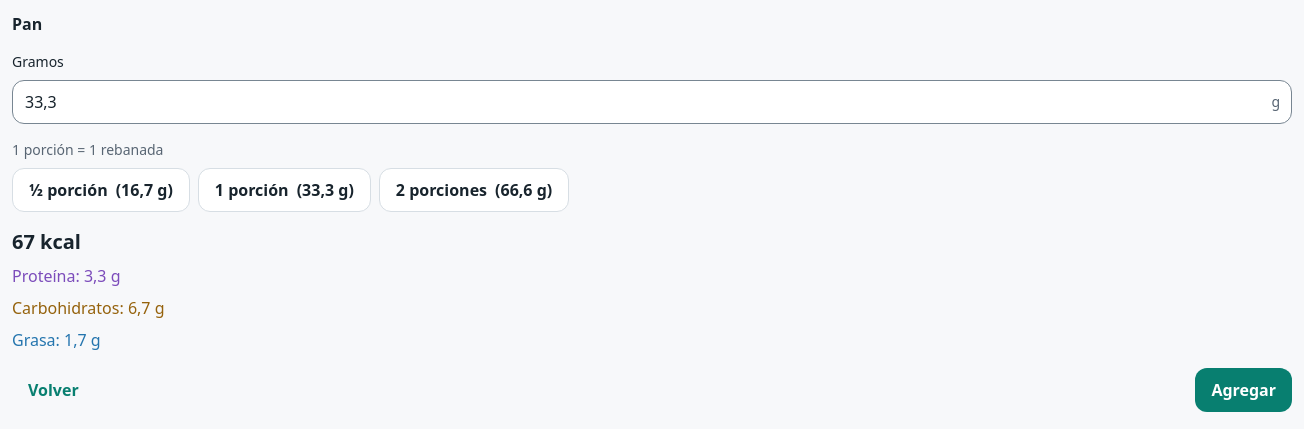
Scenario: inicia con la porción y permite media, una y dos porciones
Expected: the field labelled "Gramos" holds "33,3", x1=12 y1=80 x2=1292 y2=124
Click the button "½ porción (16,7 g)". click: click(101, 190)
box: x1=12 y1=168 x2=190 y2=212
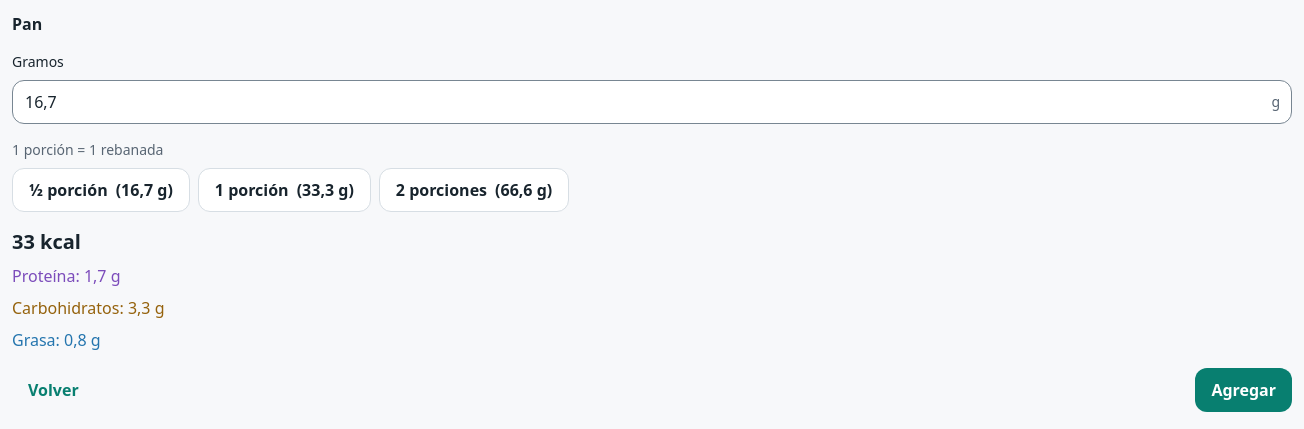
Now the field labelled "Gramos" holds "16,7", box x1=12 y1=80 x2=1292 y2=124
Click the button "2 porciones (66,6 g)". click: click(474, 190)
box: x1=379 y1=168 x2=569 y2=212
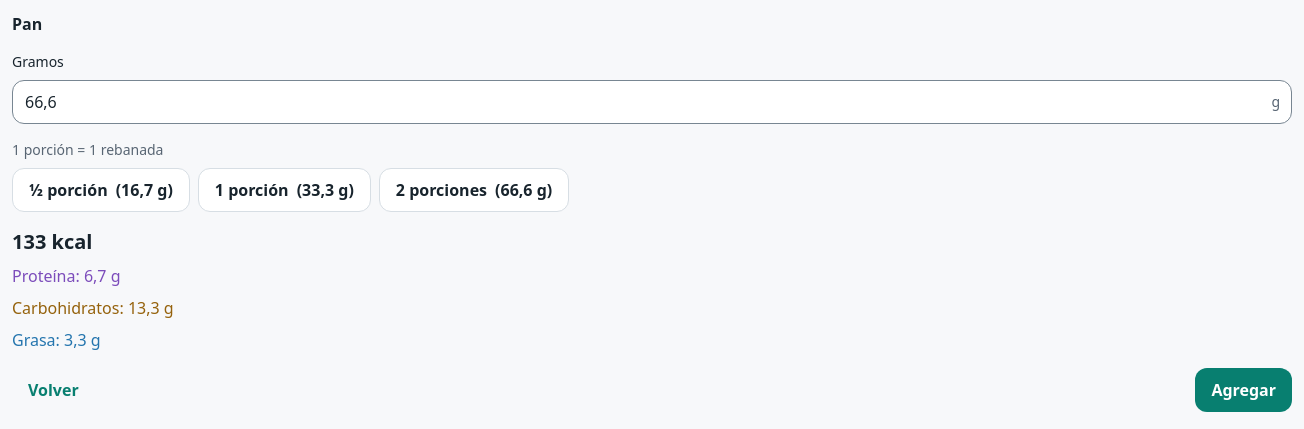
Now the field labelled "Gramos" holds "66,6", box x1=12 y1=80 x2=1292 y2=124
Click the button "1 porción (33,3 g)". click: click(284, 190)
box: x1=198 y1=168 x2=371 y2=212
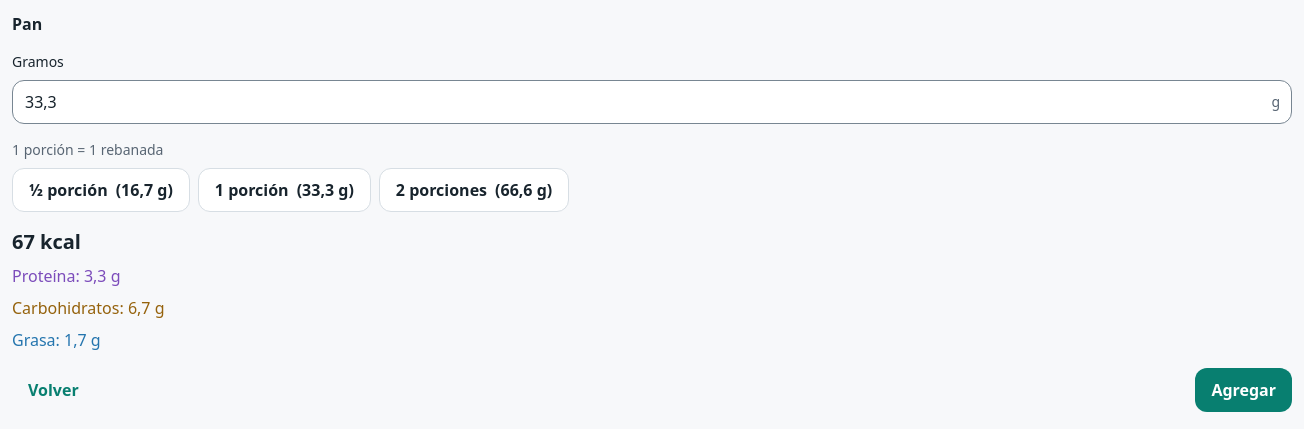
Now the field labelled "Gramos" holds "33,3", box x1=12 y1=80 x2=1292 y2=124
